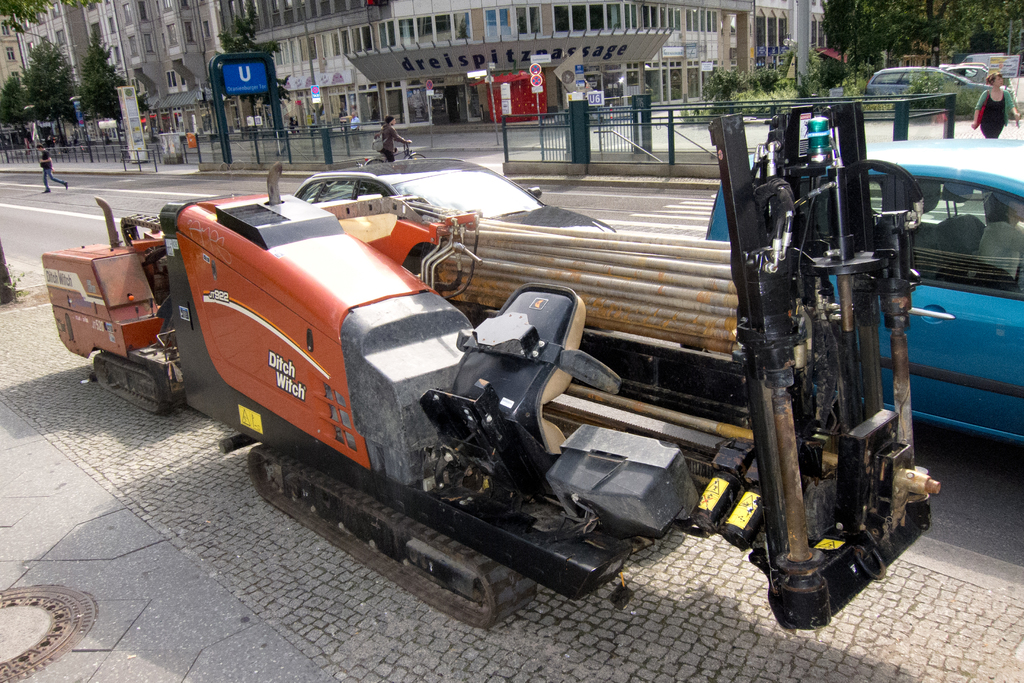Car: (705, 143, 1023, 452), (865, 67, 988, 90)
